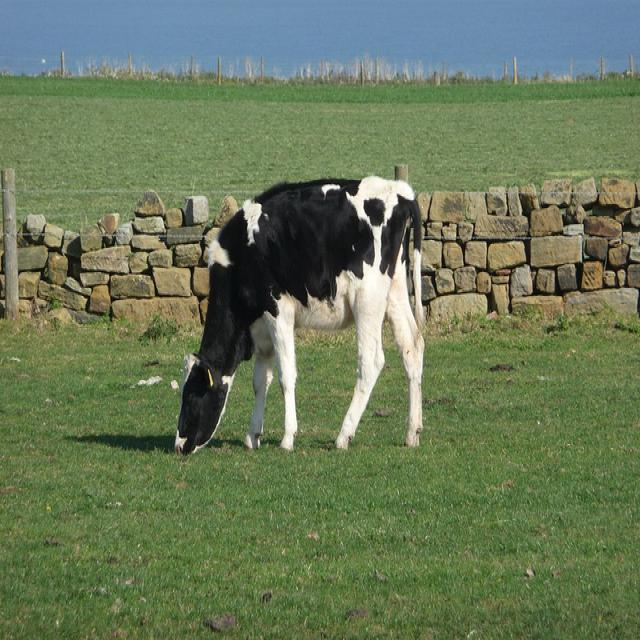cow: (173, 174, 425, 458)
